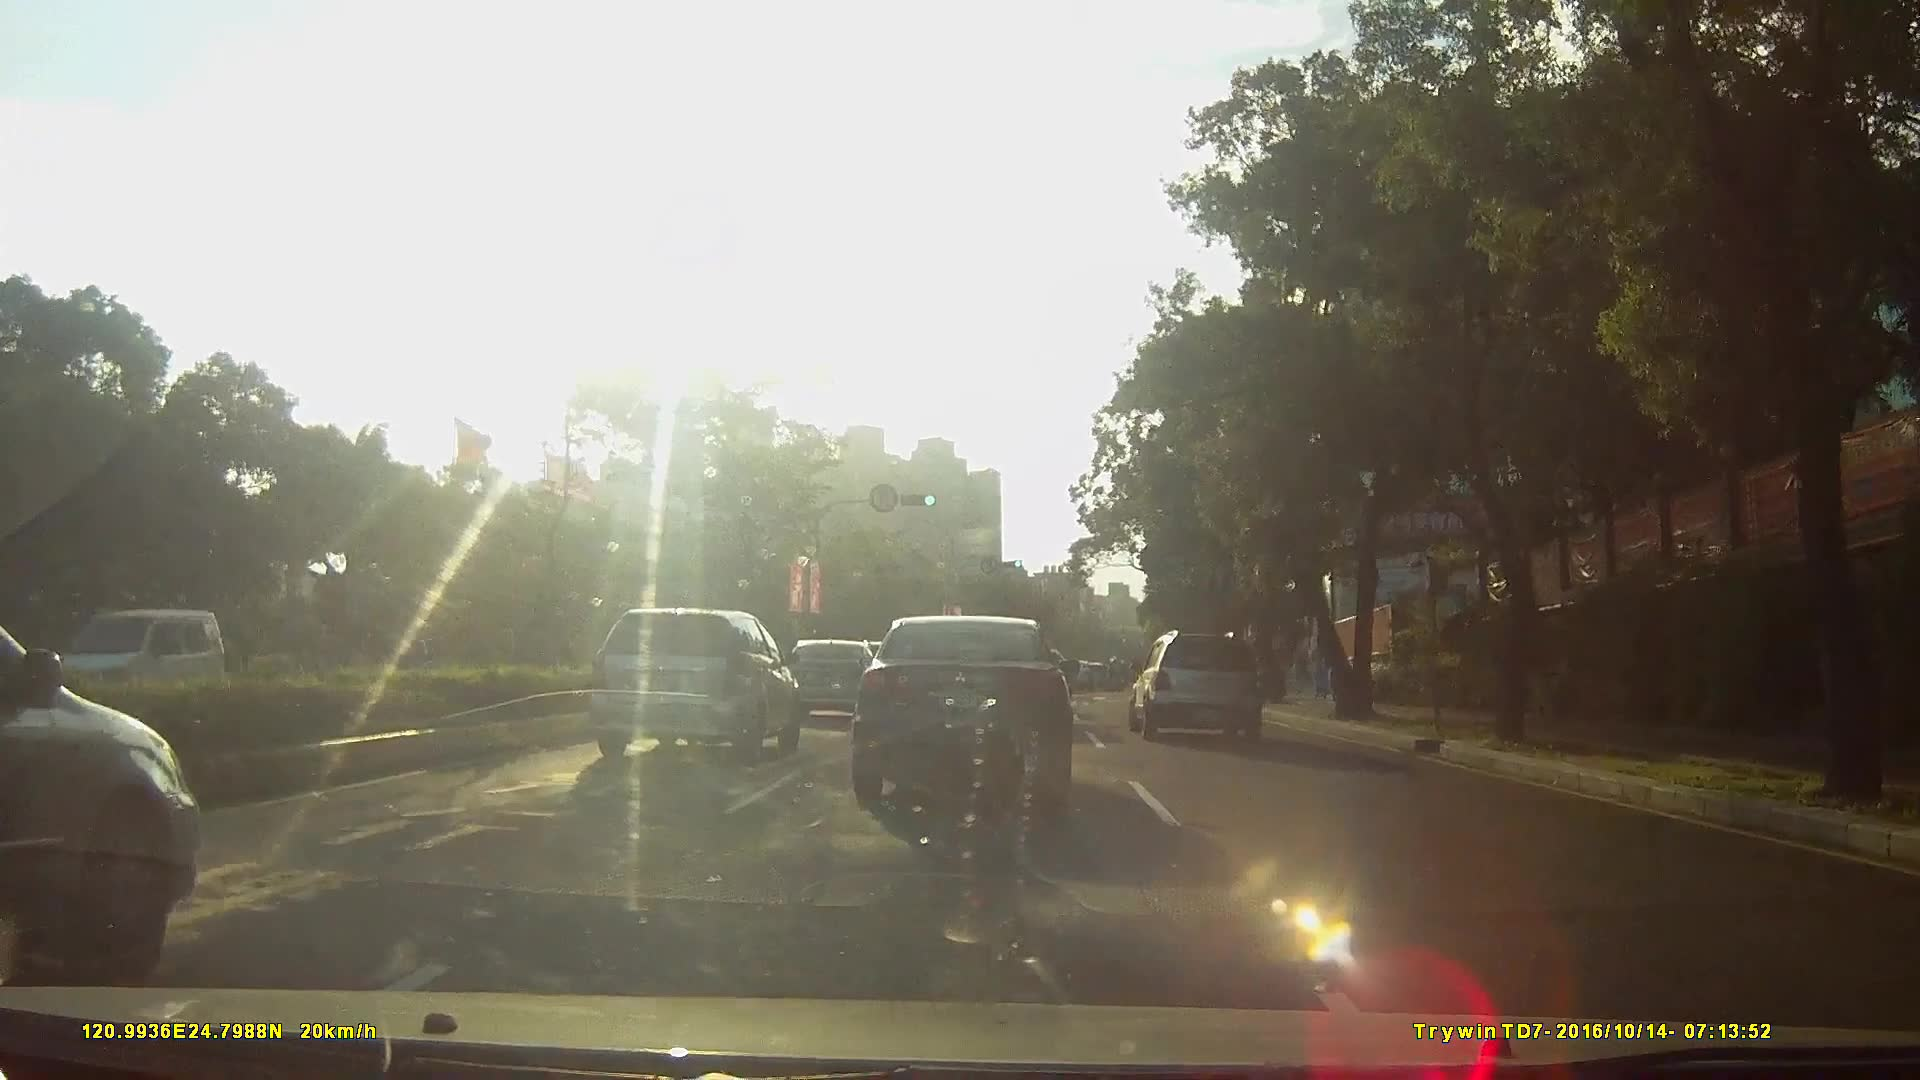vehicle: (1, 593, 224, 993), (851, 611, 1077, 814), (580, 605, 798, 761), (18, 601, 187, 713), (1129, 629, 1279, 742), (775, 640, 890, 723)
